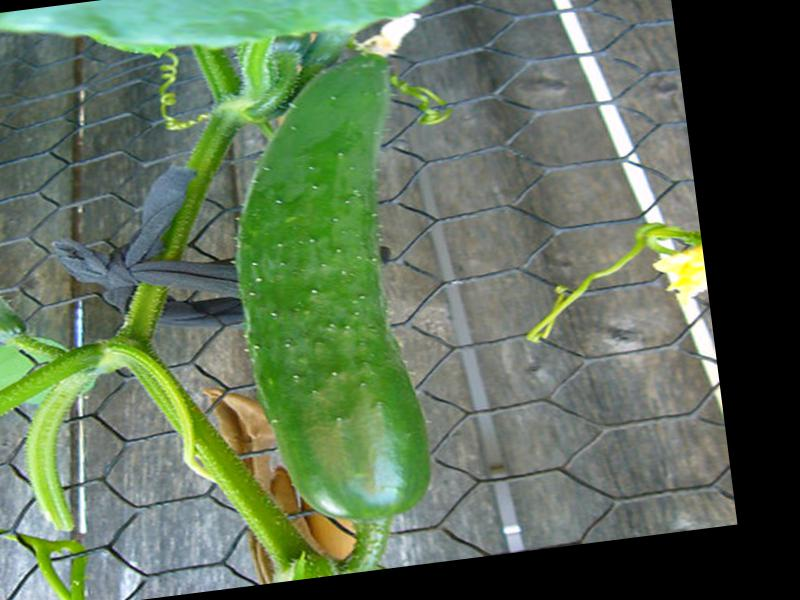Cucumber: (209, 53, 446, 532)
